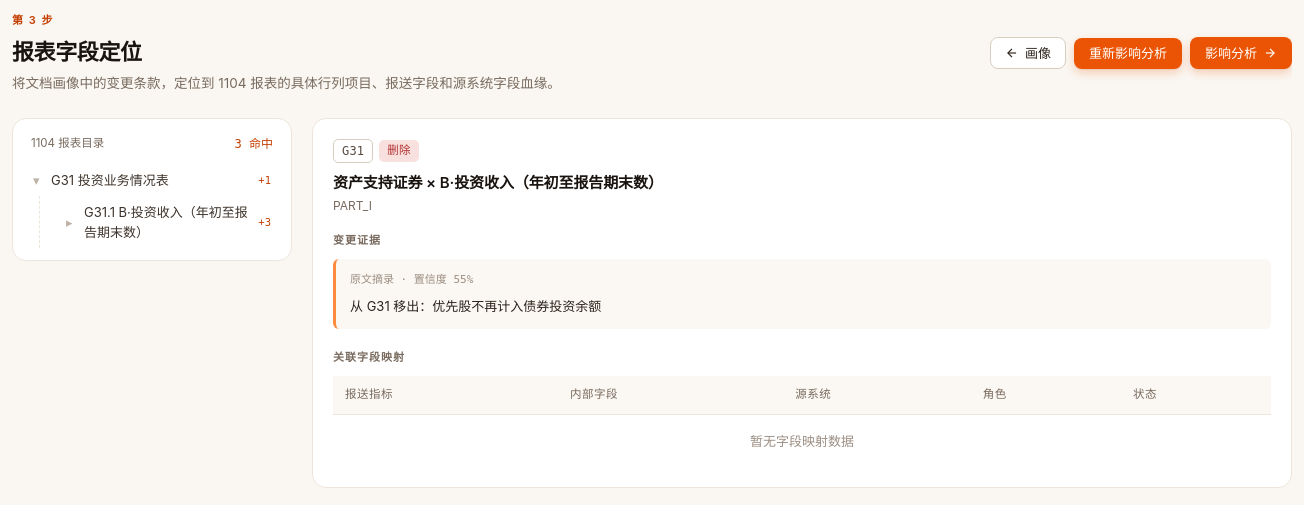
Test: LineageView › groups revision signals by business metric and keeps product details expandable
The width and height of the screenshot is (1304, 505).
expect the element with class "tree" shows "+3": met, box [258,216,271,228]
Click the element with class "tree-node" showing "▸ G31.1 B·投资收入（年初至报告期末数） +3" at (168, 222), box [58,196,279,248]
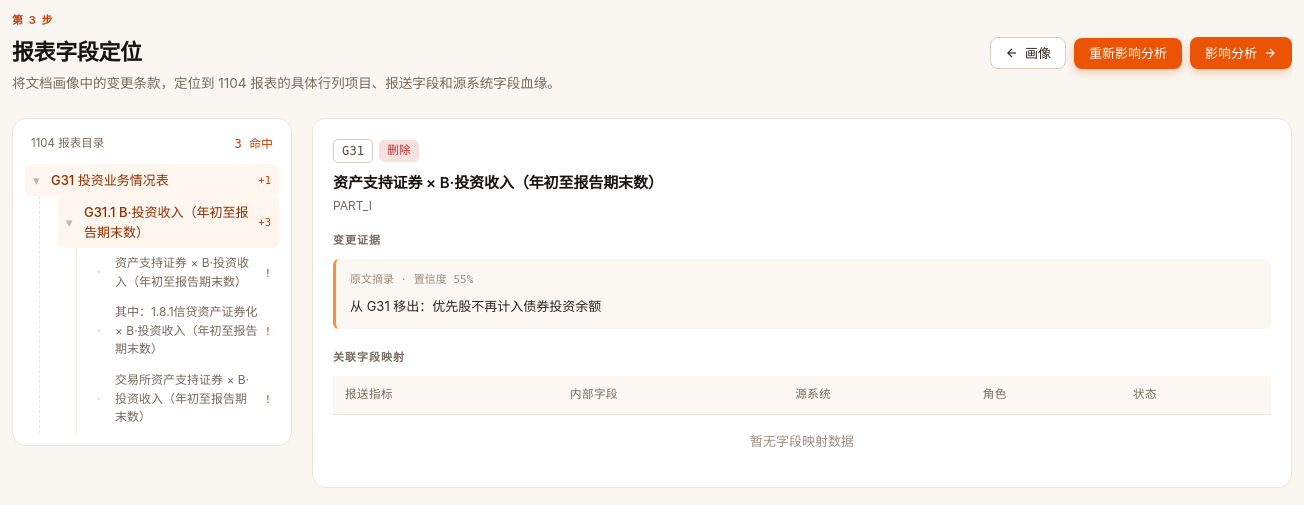
expect the element with class "tree" shows "资产支持证券 × B·投资收入（年初至报告期末数）": met, box [115,255,249,289]
expect the element with class "tree" shows "其中：1.8.1信贷资产证券化 × B·投资收入（年初至报告期末数）": met, box [115,304,258,356]
